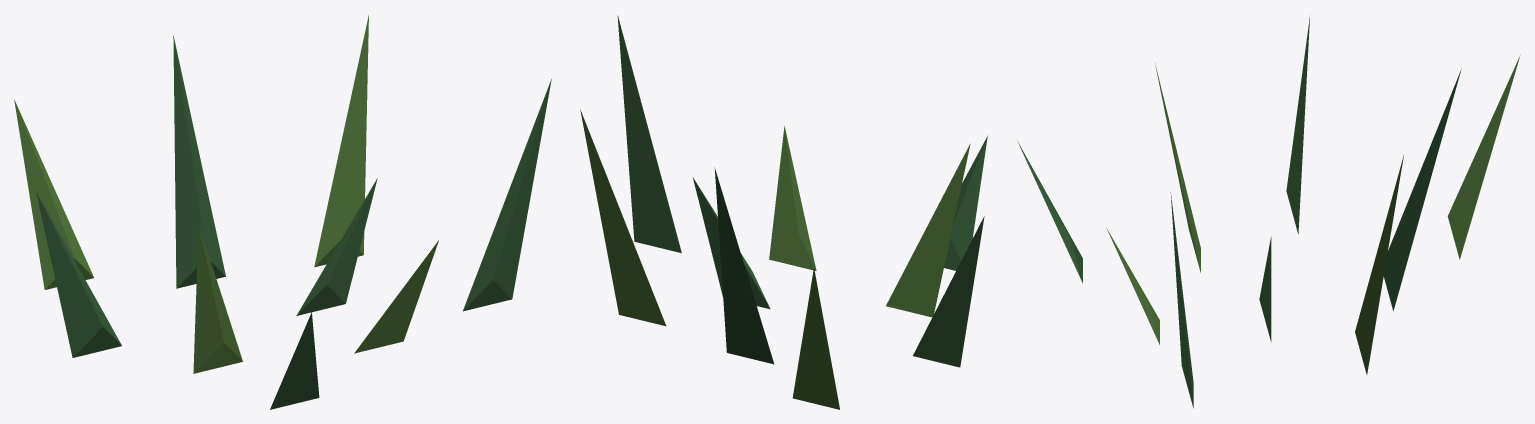
File: grass_patch.glb
3 renders of one model, left to right at view 1: azimuth 30°, elevation 25°; view 2: azimuth 150°, elevation 25°; view 3: azimuth 270°, elevation 25°, orthographic. The views are drawn at different scales.
Parts seen in each view (by area): view 1: Alfa_grass_patch; view 2: Alfa_grass_patch; view 3: Alfa_grass_patch.
Boxes of the visible parts, x1,y1,x2,y2 form: Alfa_grass_patch: [14, 15, 551, 409]; Alfa_grass_patch: [580, 15, 987, 409]; Alfa_grass_patch: [1017, 14, 1520, 408].
Size of the model in its own units: 0.6338 by 0.3 by 0.5851.
